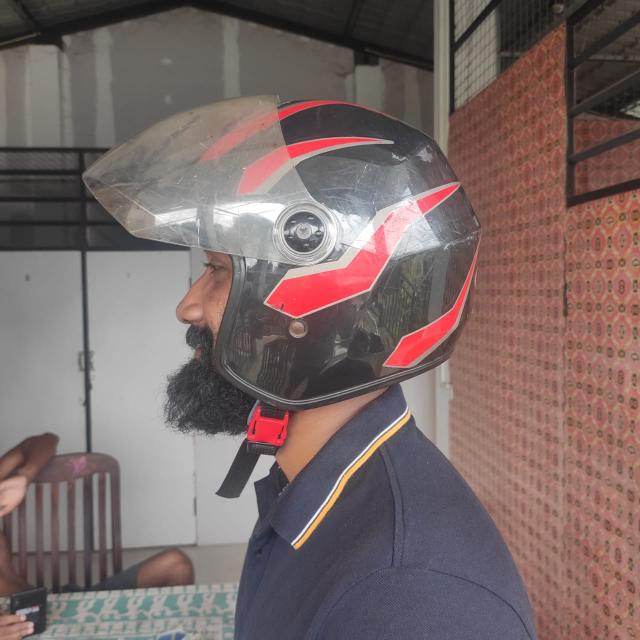With Helmet: (80, 93, 482, 409)
